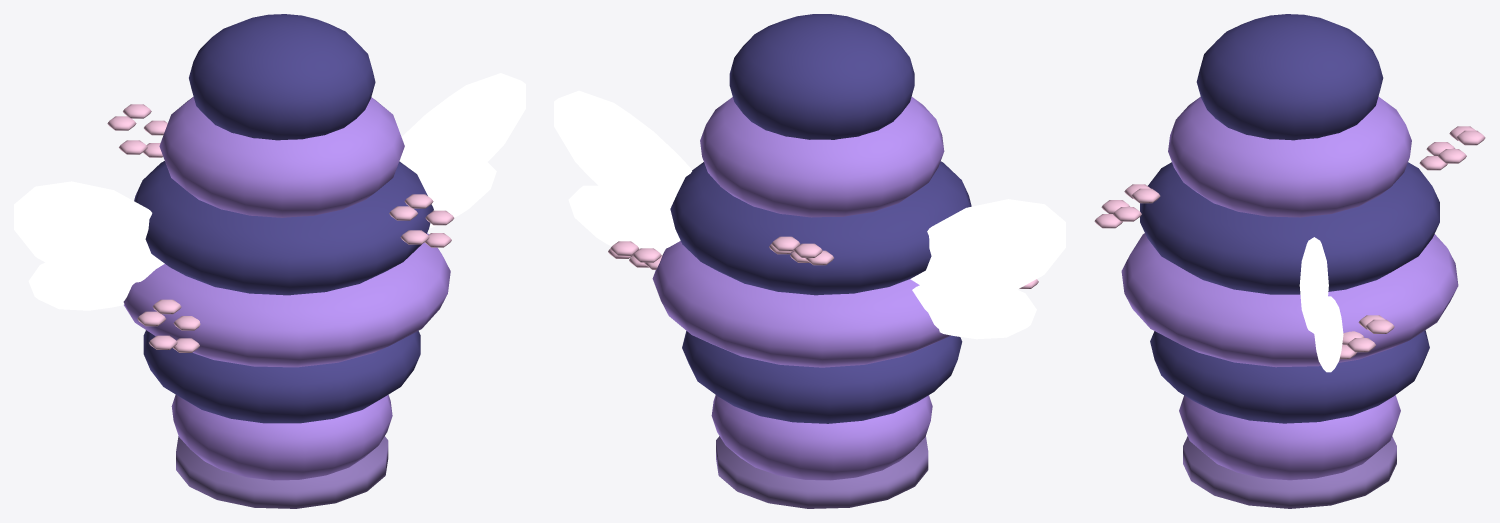
Rendered from egg_cosmic_07.glb.
3 views of the same model, side by side, from view 1: azimuth 30°, elevation 25°; view 2: azimuth 150°, elevation 25°; view 3: azimuth 270°, elevation 25° (orthographic).
Parts seen in each view (by area): view 1: ball; view 2: ball; view 3: ball.
Part boxes in pixels (box(x1,y1,x2,y2)): ball: box(14, 14, 525, 508); ball: box(554, 14, 1065, 508); ball: box(1094, 14, 1485, 508).
Size of the model in its own units: 1.2 by 0.99 by 0.8038.
